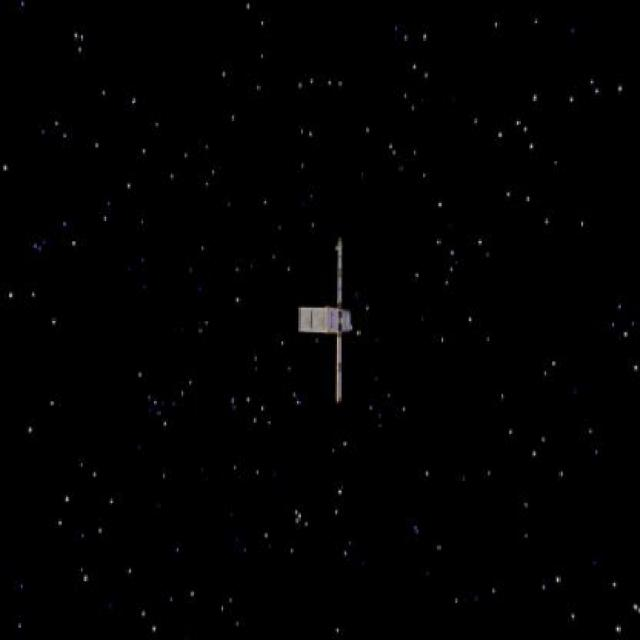medium_debris: (286, 233, 377, 412)
